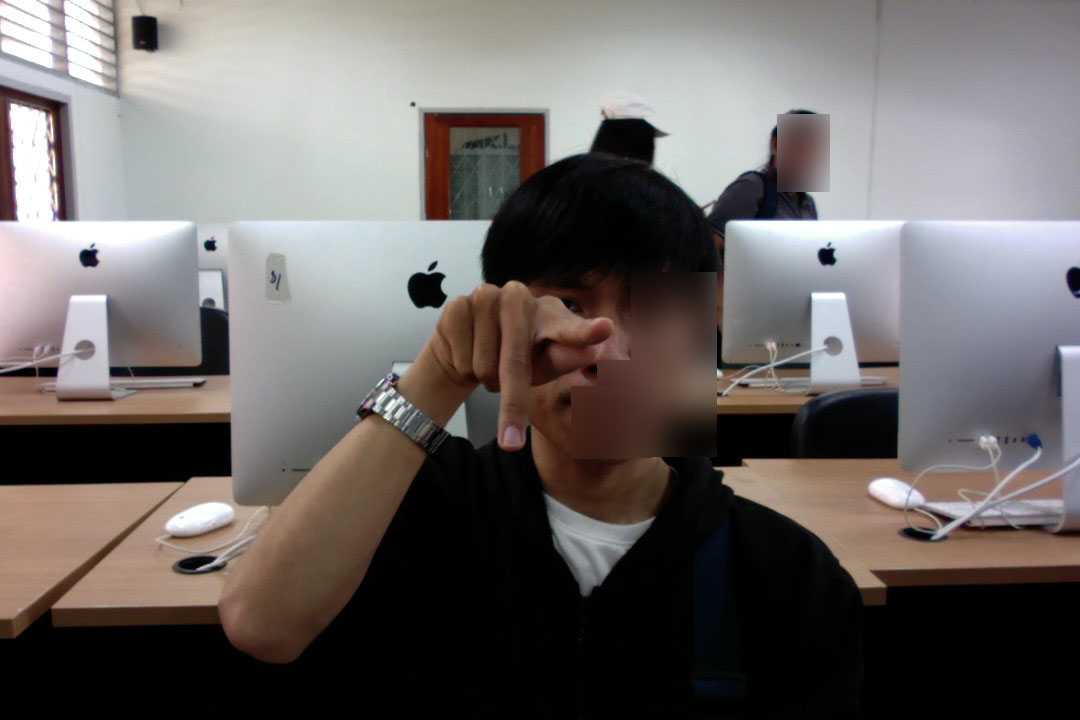por: (426, 275, 618, 452)
